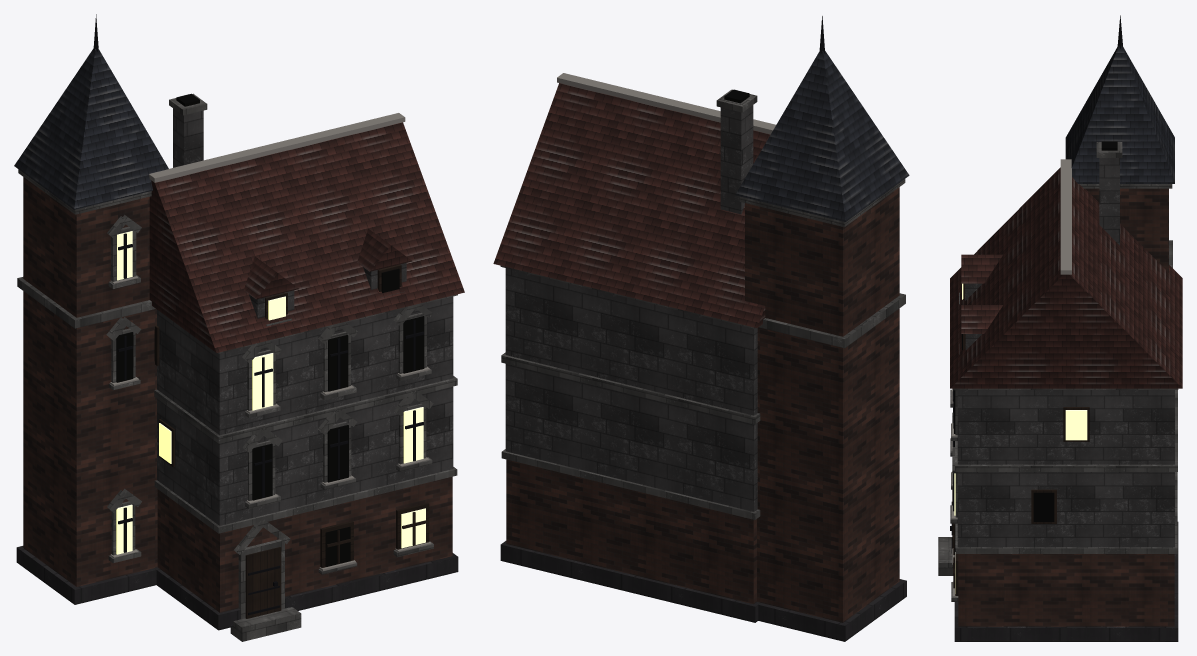
File: CasaB02.gltf
The picture shows the model from 3 angles, left to right: view 1: azimuth 30°, elevation 25°; view 2: azimuth 150°, elevation 25°; view 3: azimuth 270°, elevation 25°; orthographic projection. The views are drawn at different scales.
Visible parts, largest first — view 1: CasaB02; view 2: CasaB02; view 3: CasaB02.
Part boxes in pixels (x1=…): CasaB02: x1=14, y1=14, x2=464, y2=641; CasaB02: x1=493, y1=16, x2=909, y2=641; CasaB02: x1=938, y1=15, x2=1182, y2=641.
Size of the model in its own units: 12.17 by 20.04 by 8.62.
Materials: 11 (7 with a texture image).
